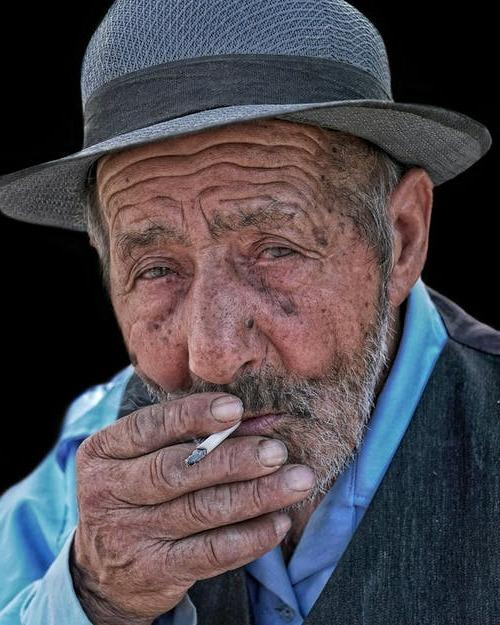Wrinkles: (100, 142, 315, 201), (107, 161, 321, 207), (294, 132, 340, 161), (284, 204, 316, 225), (283, 176, 315, 196), (112, 204, 138, 227), (221, 196, 276, 202), (200, 199, 209, 229), (142, 196, 175, 204), (197, 186, 220, 196), (249, 181, 286, 184), (180, 201, 183, 220)
